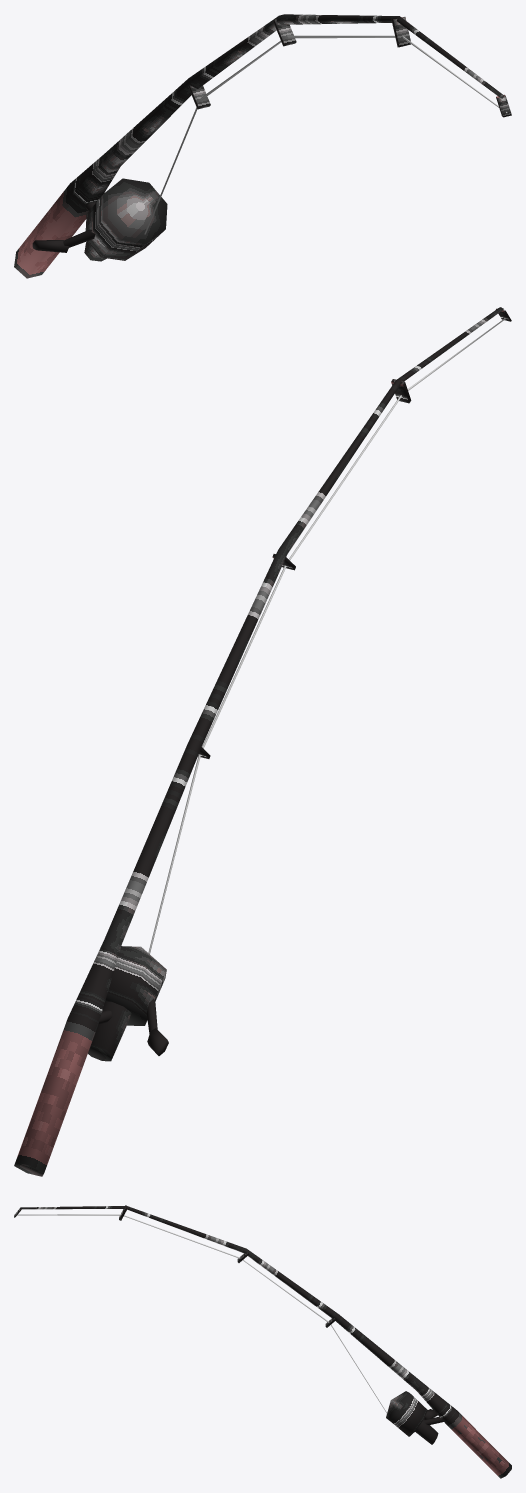
The model's file is FishingRod.fbx.
3 views of the same model, one above another, from view 1: azimuth 30°, elevation 25°; view 2: azimuth 150°, elevation 25°; view 3: azimuth 270°, elevation 25° (orthographic). The views are drawn at different scales.
Parts seen in each view (by area): view 1: Mesh_0487; view 2: Mesh_0487; view 3: Mesh_0487.
Boxes of the visible parts, x1=… form: Mesh_0487: x1=14, y1=14, x2=511, y2=278; Mesh_0487: x1=14, y1=307, x2=511, y2=1176; Mesh_0487: x1=14, y1=1205, x2=511, y2=1478.
Size of the model in its own units: 80.02 by 416 by 692.
